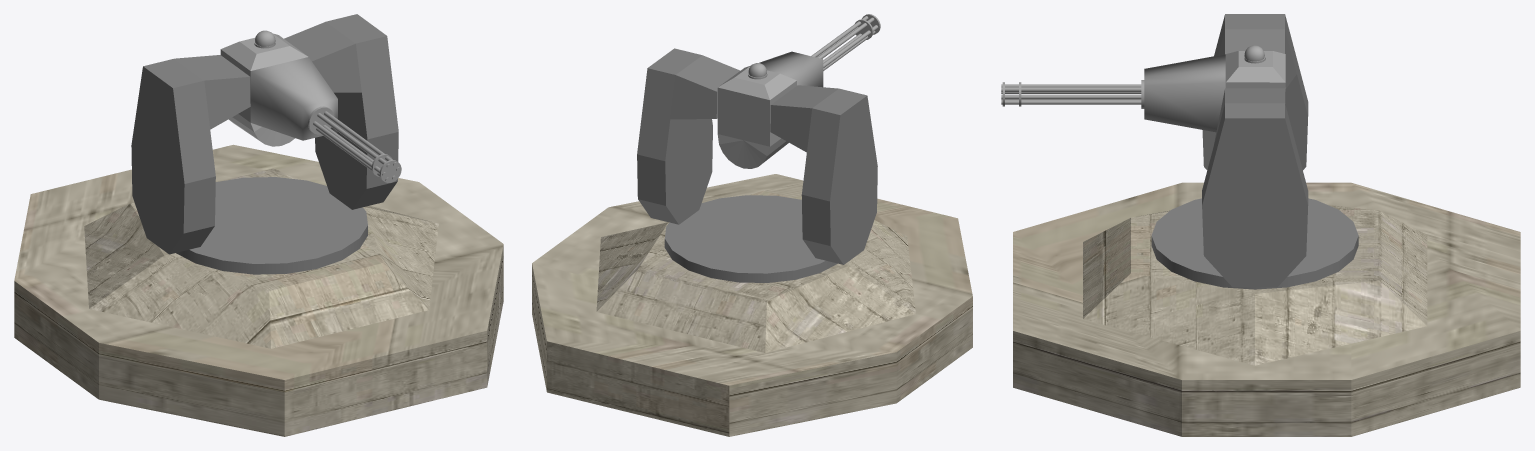
The model's file is CIWS.fbx.
The picture shows the model from 3 angles, left to right: view 1: azimuth 30°, elevation 25°; view 2: azimuth 150°, elevation 25°; view 3: azimuth 270°, elevation 25°; orthographic projection. The views are drawn at different scales.
Parts seen in each view (by area): view 1: Base1, pCube11, pCylinder1, pCylinder14, pCylinder13; view 2: Base1, pCube11, pCylinder1, pCylinder14, pCylinder13; view 3: Base1, pCube11, pCylinder1, pCylinder14, pCylinder13.
Part boxes in pixels (x1=…): Base1: x1=14, y1=144, x2=503, y2=436; pCube11: x1=131, y1=14, x2=398, y2=254; pCylinder1: x1=176, y1=177, x2=367, y2=274; pCylinder14: x1=220, y1=33, x2=337, y2=146; pCylinder13: x1=307, y1=106, x2=401, y2=182; Base1: x1=532, y1=174, x2=972, y2=436; pCube11: x1=637, y1=48, x2=877, y2=264; pCylinder1: x1=664, y1=195, x2=837, y2=282; pCylinder14: x1=717, y1=51, x2=823, y2=168; pCylinder13: x1=811, y1=14, x2=880, y2=70; Base1: x1=1013, y1=182, x2=1520, y2=436; pCube11: x1=1202, y1=14, x2=1308, y2=287; pCylinder1: x1=1151, y1=198, x2=1358, y2=289; pCylinder14: x1=1144, y1=51, x2=1285, y2=132; pCylinder13: x1=1001, y1=80, x2=1144, y2=108.
Size of the model in its own units: 8.03 by 5.54 by 8.92.
